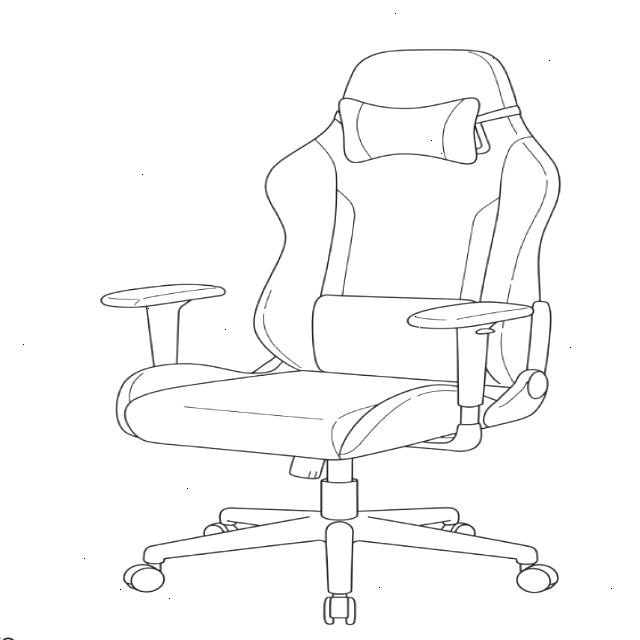5_Star_Base: (119, 477, 563, 627)
Armrest: (401, 299, 536, 455), (99, 282, 230, 368)
Backrest: (251, 117, 564, 389)
Caster_Wheel: (504, 555, 568, 600), (110, 557, 174, 600), (312, 585, 365, 633)
Headrest: (331, 48, 524, 166)
Seat: (113, 359, 513, 461)
